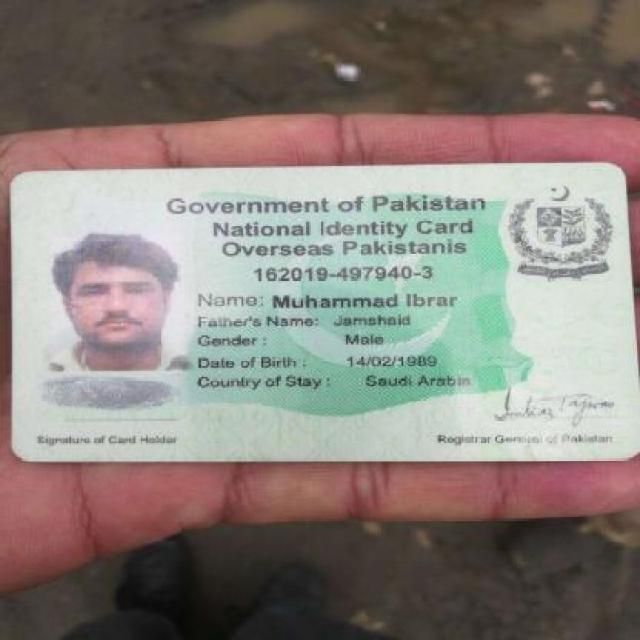Front: (8, 162, 630, 464)
